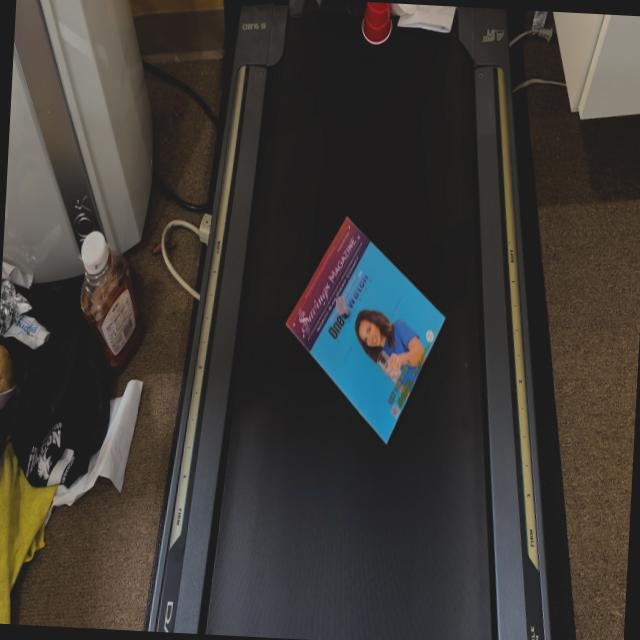Recycle: (283, 208, 456, 465), (352, 1, 399, 56)
